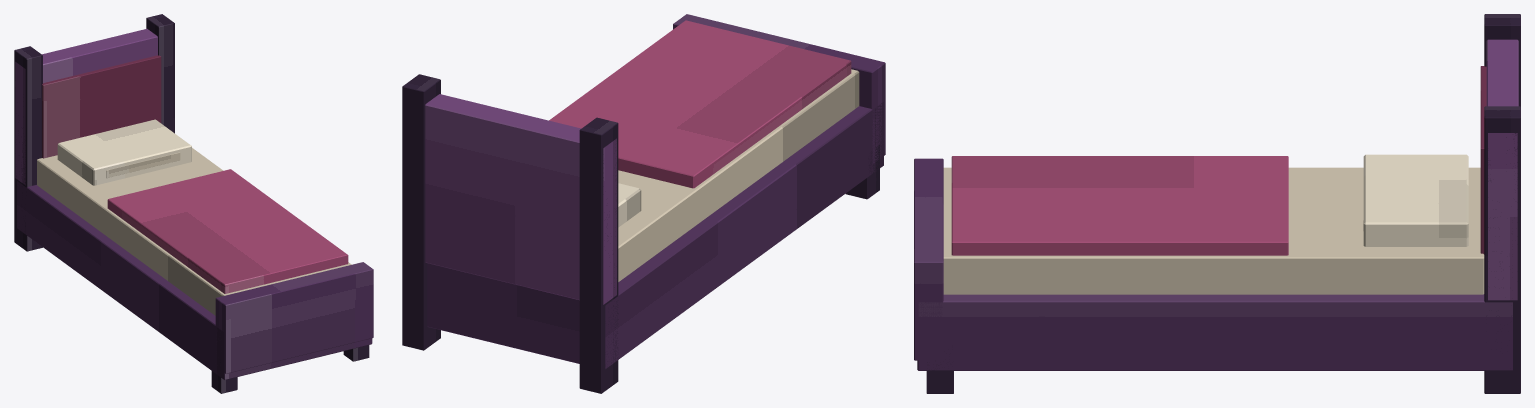
The model's file is single_bed_violet.glb.
3 renders of one model, left to right at view 1: azimuth 30°, elevation 25°; view 2: azimuth 150°, elevation 25°; view 3: azimuth 270°, elevation 25°, orthographic. The views are drawn at different scales.
Visible parts, largest first — view 1: Blanket, BedFrame, Footboard, Mattress, HeadboardInset, Pillow_1, HeadboardPanel, HeadPostL, HeadPostR, PillowBand_1, FootL, FootR; view 2: BedFrame, HeadboardPanel, Blanket, Mattress, HeadPostL, HeadPostR, Footboard, Pillow_1, FootL; view 3: BedFrame, Blanket, Mattress, Pillow_1, HeadboardPanel, Footboard, HeadPostR, HeadPostL, HeadboardInset, FootR.
Boxes of the visible parts, x1,y1,x2,y2 form: Blanket: [107, 169, 348, 293]; BedFrame: [17, 181, 372, 379]; Footboard: [215, 262, 373, 373]; Mattress: [37, 148, 351, 315]; HeadboardInset: [42, 55, 161, 158]; Pillow_1: [57, 119, 191, 185]; HeadboardPanel: [15, 29, 157, 185]; HeadPostL: [14, 46, 42, 251]; HeadPostR: [146, 14, 174, 133]; PillowBand_1: [106, 152, 180, 178]; FootL: [211, 362, 237, 393]; FootR: [343, 345, 369, 361]; BedFrame: [427, 102, 883, 368]; HeadboardPanel: [425, 94, 616, 304]; Blanket: [549, 20, 851, 188]; Mattress: [618, 69, 859, 281]; HeadPostL: [579, 117, 618, 393]; HeadPostR: [402, 74, 440, 350]; Footboard: [673, 14, 885, 163]; Pillow_1: [618, 183, 641, 227]; FootL: [845, 145, 879, 199]; BedFrame: [917, 294, 1512, 370]; Blanket: [951, 156, 1288, 255]; Mattress: [943, 167, 1484, 294]; Pillow_1: [1363, 154, 1468, 246]; HeadboardPanel: [1486, 39, 1518, 300]; Footboard: [914, 158, 943, 360]; HeadPostR: [1484, 106, 1520, 393]; HeadPostL: [1484, 14, 1520, 106]; HeadboardInset: [1480, 66, 1486, 254]; FootR: [926, 362, 953, 393].
Bounding box in the file's own units: 1.08 × 1.34 × 2.66.
1 material, 1 textured.
